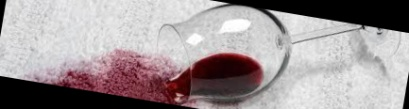wine: (31, 34, 189, 106)
